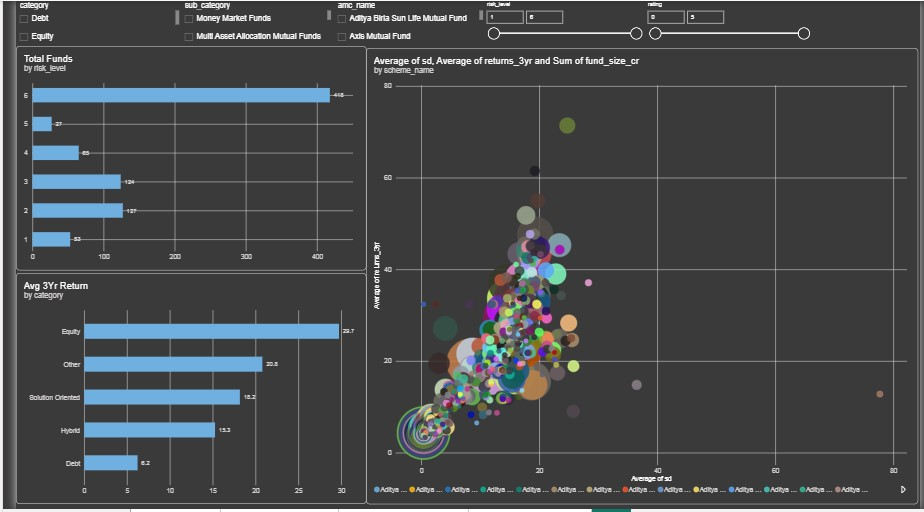

Layout of this report page (visuals, bound fields, positions):
{"tool":"powerbi","page":{"name":"Return vs Risk","canvas":[1920,1080],"ordinal":1},"visuals":[{"type":"scatterChart","fields":{"X":["Avg(Cleaned_Data.sd)"],"Y":["Avg(Cleaned_Data.returns_3yr)"],"Size":["Sum(Cleaned_Data.fund_size_cr)"],"Series":["Cleaned_Data.scheme_name"]},"box":[744.7,100,1174.5,970.2],"z":0},{"type":"clusteredBarChart","fields":{"Category":["Cleaned_Data.category"],"Y":["Cleaned_Data.Avg 3Yr Return"]},"box":[0,578.7,744.7,491.5],"z":1000},{"type":"clusteredBarChart","fields":{"Category":["Cleaned_Data.risk_level"],"Y":["Cleaned_Data.Total Funds"]},"box":[0,95.7,744.7,476.6],"z":2000},{"type":"slicer","fields":{"Values":["Cleaned_Data.sub_category"]},"box":[351.1,0,319.1,95.7],"z":3000},{"type":"slicer","fields":{"Values":["Cleaned_Data.category"]},"box":[0,0,346.8,95.7],"z":4000},{"type":"slicer","fields":{"Values":["Cleaned_Data.amc_name"]},"box":[676.6,0,317,95.7],"z":5000},{"type":"slicer","fields":{"Values":["Cleaned_Data.risk_level"]},"box":[993.6,0,342.6,100],"z":6000},{"type":"slicer","fields":{"Values":["Cleaned_Data.rating"]},"box":[1336.2,0,355.3,100],"z":7000}]}

Visuals, with their boxes in screenshot pixels (x1, y1, x2, y2), scaled from the page's 1920x1080 canvas onto the 924x512 screenshot:
scatterChart - Avg(Cleaned_Data.sd) x Avg(Cleaned_Data.returns_3yr): rect(358, 47, 923, 507)
clusteredBarChart - Cleaned_Data.category x Cleaned_Data.Avg 3Yr Return: rect(0, 274, 358, 507)
clusteredBarChart - Cleaned_Data.risk_level x Cleaned_Data.Total Funds: rect(0, 45, 358, 271)
slicer - Cleaned_Data.sub_category: rect(169, 0, 323, 45)
slicer - Cleaned_Data.category: rect(0, 0, 167, 45)
slicer - Cleaned_Data.amc_name: rect(326, 0, 478, 45)
slicer - Cleaned_Data.risk_level: rect(478, 0, 643, 47)
slicer - Cleaned_Data.rating: rect(643, 0, 814, 47)
